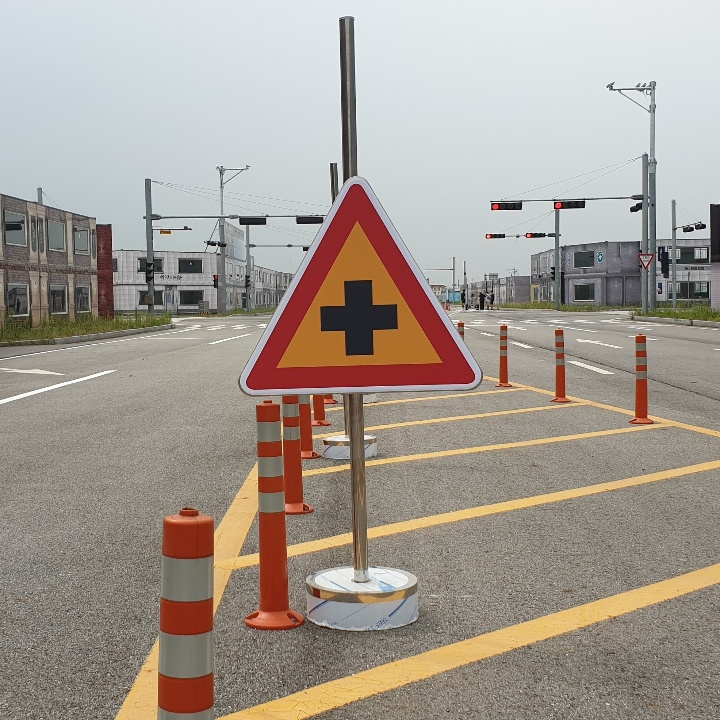inter: (313, 273, 402, 361)
